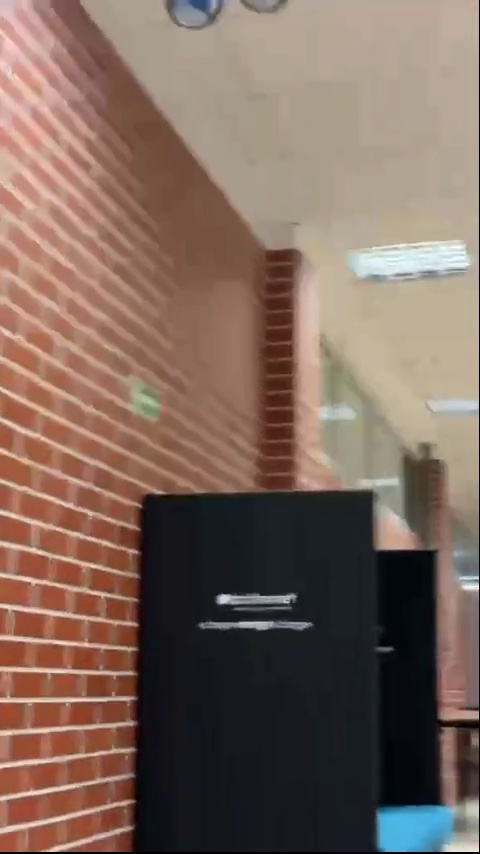drone: (162, 0, 287, 28)
